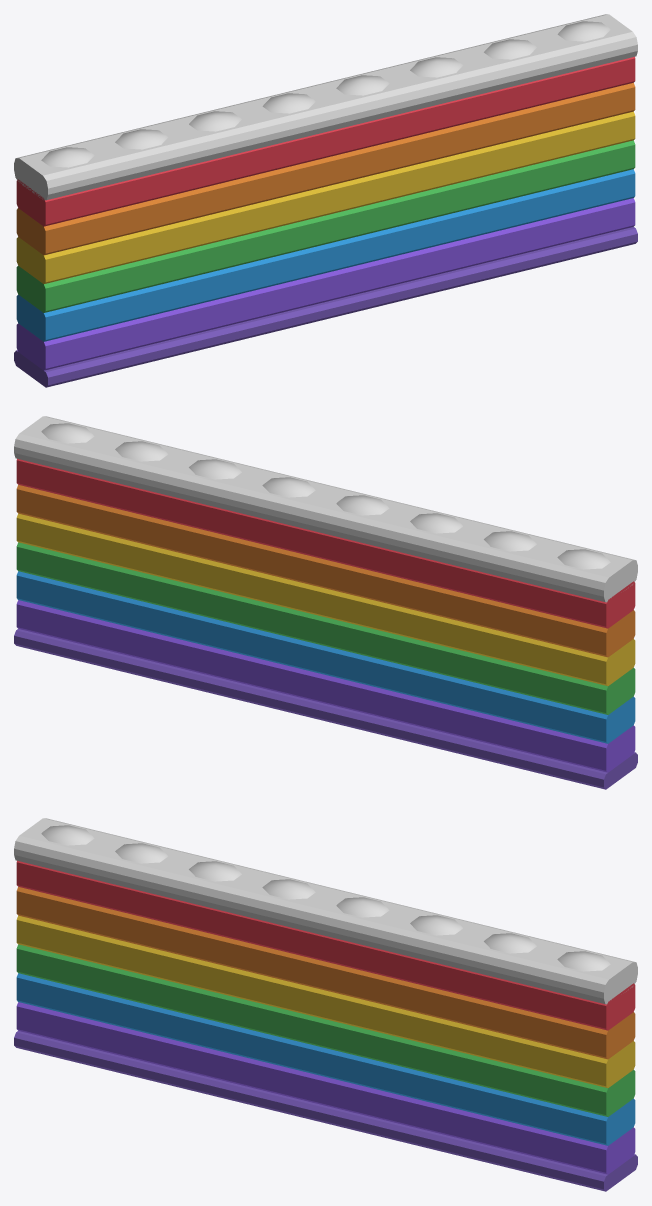
Rendered from carnival-plotwall2.glb.
The picture shows the model from 3 angles, top to bottom: view 1: azimuth 30°, elevation 25°; view 2: azimuth 150°, elevation 25°; view 3: azimuth 330°, elevation 25°; orthographic projection.
Parts seen in each view (by area): view 1: carnival-plotwall2; view 2: carnival-plotwall2; view 3: carnival-plotwall2.
Boxes of the visible parts, x1,y1,x2,y2 form: carnival-plotwall2: (14,14,637,387); carnival-plotwall2: (14,416,637,789); carnival-plotwall2: (14,818,637,1191).
Size of the model in its own units: 4 by 1.4 by 0.4.
